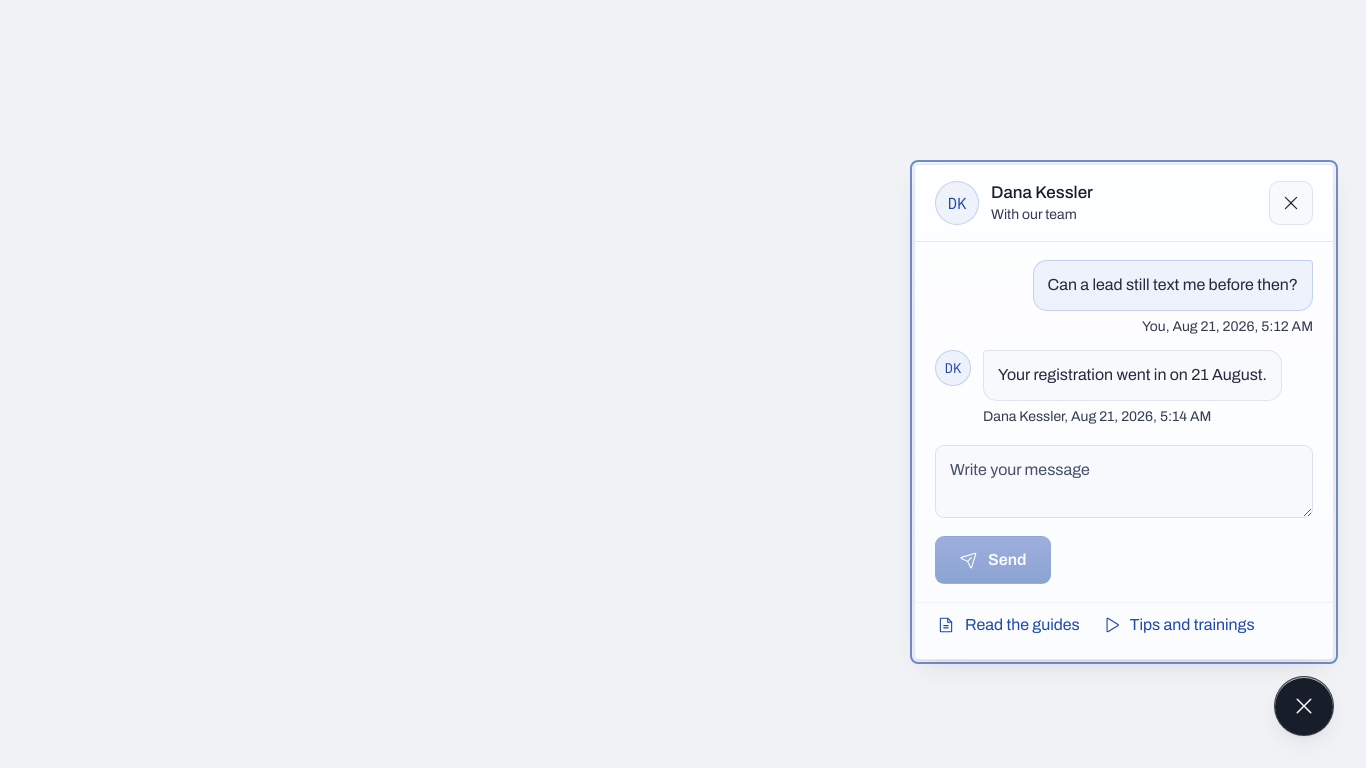
CoachSupportBubble › appends to the open thread and renders what the server read back
This screenshot has width=1366, height=768.
Expected: the dialog is shown, [914,164,1334,660]
In the text box labelled "Write your message": x=1124, y=481 [935,445,1313,518], type "Thank you."
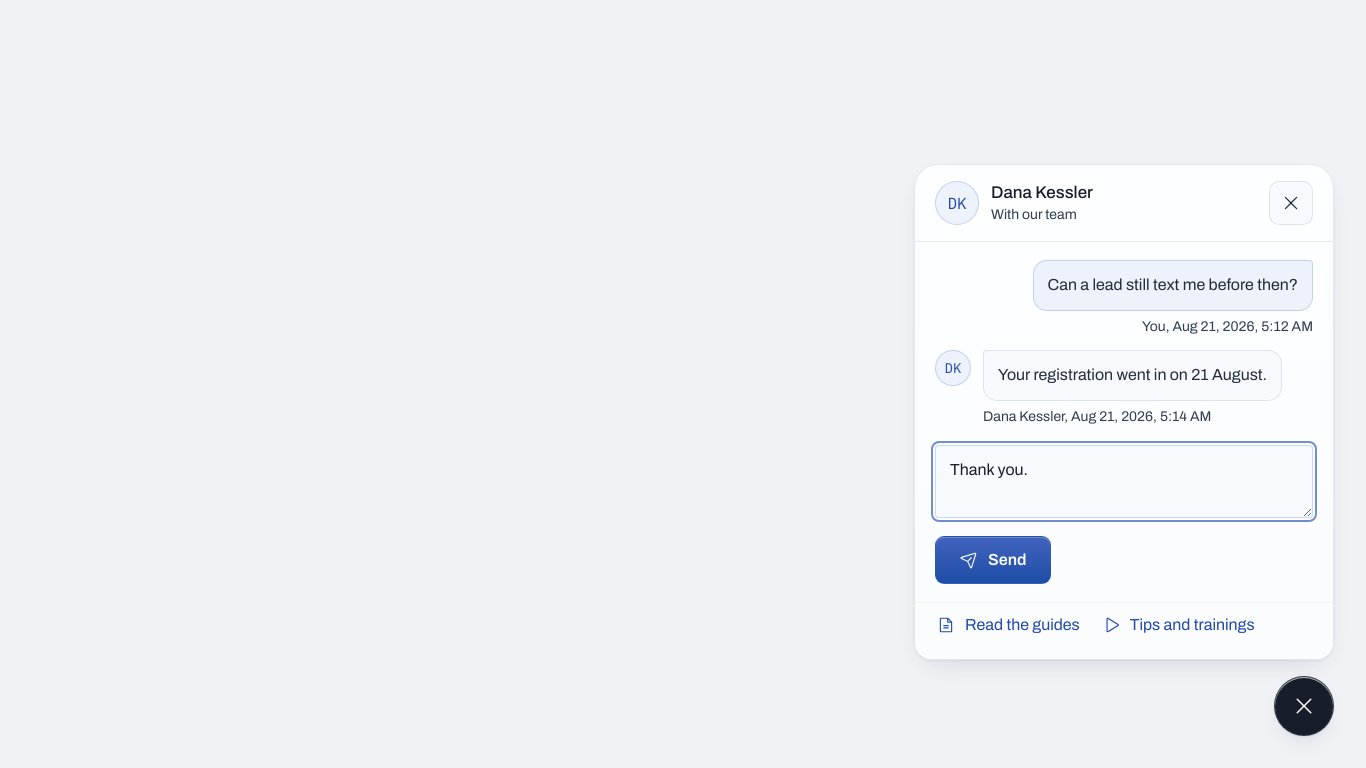
Click the button "Send": x=993, y=560 [935,536,1052,584]
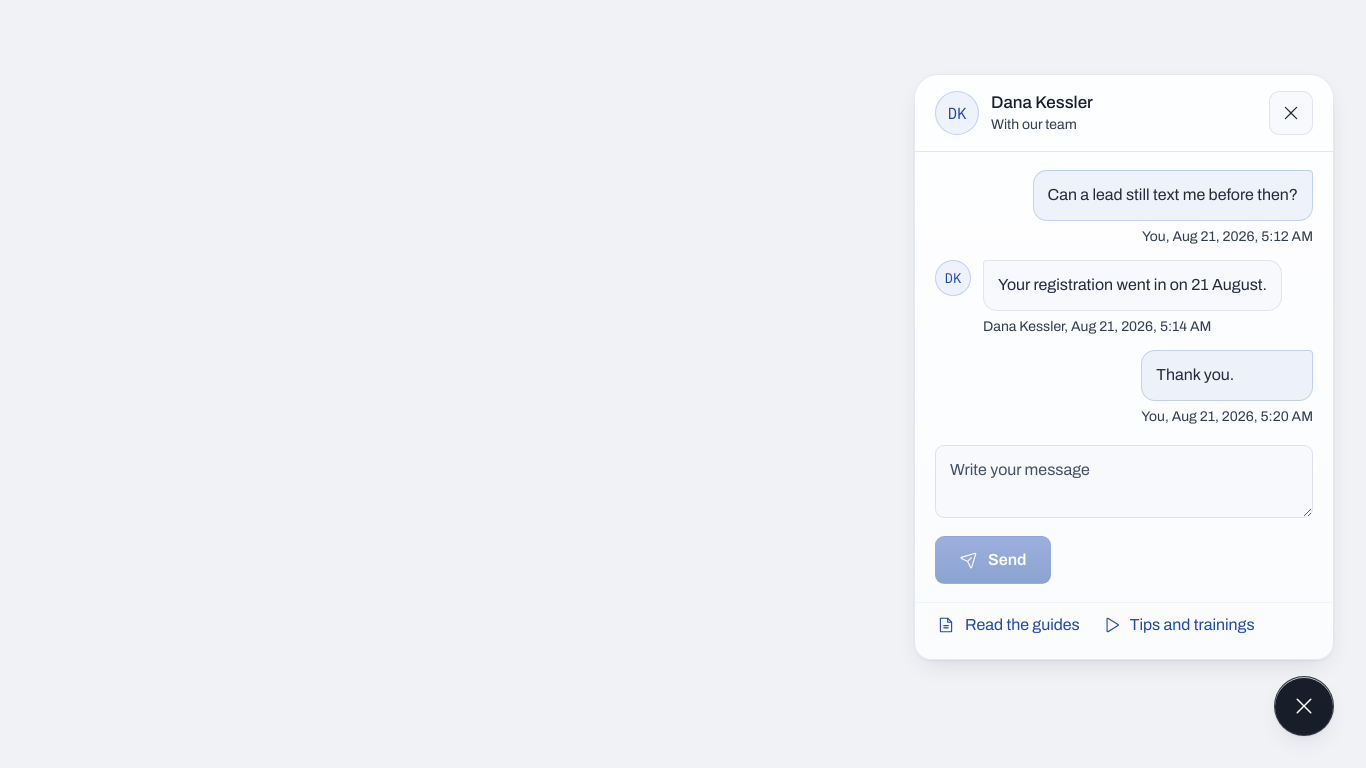
Expected: the text "Thank you." is shown, [1141,350,1313,401]
